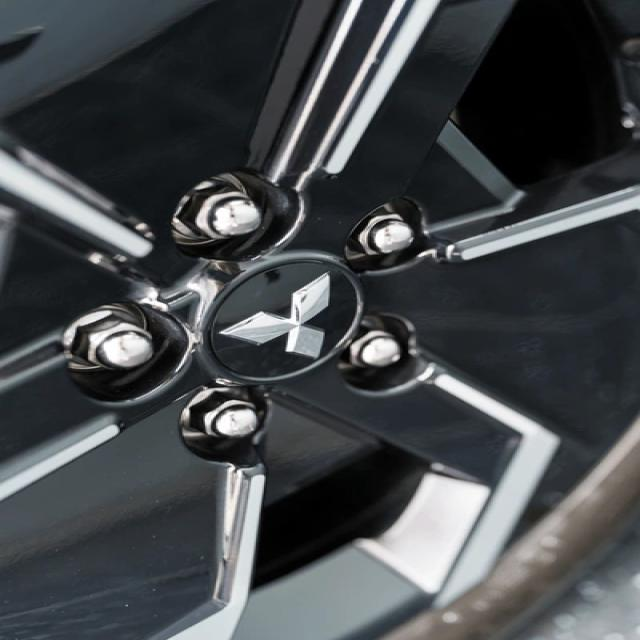mitsubishi: (213, 269, 348, 363)
